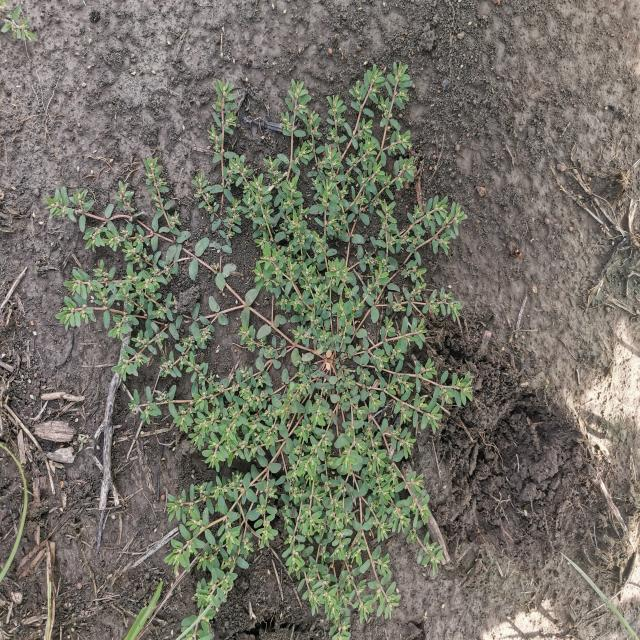SpottedSpurge: (42, 58, 474, 634), (0, 1, 39, 46)
